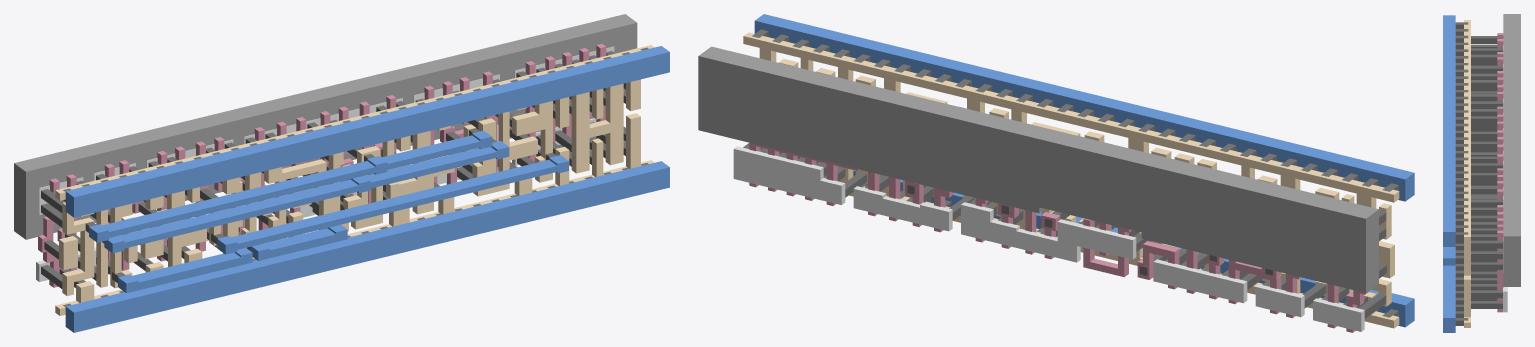
Rendered from sky130_fd_sc_hd__sedfxtp_4.gds.gltf.
3 views of the same model, side by side, from view 1: azimuth 30°, elevation 25°; view 2: azimuth 150°, elevation 25°; view 3: azimuth 270°, elevation 25° (orthographic). The views are drawn at different scales.
Visible parts, largest first — view 1: sky130_fd_sc_hd__sedfxtp_4_met1, sky130_fd_sc_hd__sedfxtp_4_li1, sky130_fd_sc_hd__sedfxtp_4_nwell, sky130_fd_sc_hd__sedfxtp_4_poly, sky130_fd_sc_hd__sedfxtp_4_licon, sky130_fd_sc_hd__sedfxtp_4_diff, sky130_fd_sc_hd__sedfxtp_4_mcon; view 2: sky130_fd_sc_hd__sedfxtp_4_nwell, sky130_fd_sc_hd__sedfxtp_4_diff, sky130_fd_sc_hd__sedfxtp_4_li1, sky130_fd_sc_hd__sedfxtp_4_met1, sky130_fd_sc_hd__sedfxtp_4_poly, sky130_fd_sc_hd__sedfxtp_4_licon, sky130_fd_sc_hd__sedfxtp_4_mcon; view 3: sky130_fd_sc_hd__sedfxtp_4_licon, sky130_fd_sc_hd__sedfxtp_4_nwell, sky130_fd_sc_hd__sedfxtp_4_met1, sky130_fd_sc_hd__sedfxtp_4_mcon, sky130_fd_sc_hd__sedfxtp_4_li1, sky130_fd_sc_hd__sedfxtp_4_poly, sky130_fd_sc_hd__sedfxtp_4_diff.
Boxes of the visible parts, bbox=[...] form: sky130_fd_sc_hd__sedfxtp_4_met1: bbox=[65, 46, 669, 332]; sky130_fd_sc_hd__sedfxtp_4_li1: bbox=[55, 45, 654, 315]; sky130_fd_sc_hd__sedfxtp_4_nwell: bbox=[14, 14, 637, 239]; sky130_fd_sc_hd__sedfxtp_4_poly: bbox=[38, 44, 606, 287]; sky130_fd_sc_hd__sedfxtp_4_licon: bbox=[41, 51, 625, 288]; sky130_fd_sc_hd__sedfxtp_4_diff: bbox=[36, 46, 614, 281]; sky130_fd_sc_hd__sedfxtp_4_mcon: bbox=[63, 47, 648, 306]; sky130_fd_sc_hd__sedfxtp_4_nwell: bbox=[698, 46, 1378, 292]; sky130_fd_sc_hd__sedfxtp_4_diff: bbox=[733, 146, 1364, 331]; sky130_fd_sc_hd__sedfxtp_4_li1: bbox=[743, 32, 1399, 328]; sky130_fd_sc_hd__sedfxtp_4_met1: bbox=[754, 14, 1414, 327]; sky130_fd_sc_hd__sedfxtp_4_poly: bbox=[749, 142, 1369, 332]; sky130_fd_sc_hd__sedfxtp_4_licon: bbox=[743, 82, 1386, 318]; sky130_fd_sc_hd__sedfxtp_4_mcon: bbox=[752, 29, 1398, 317]; sky130_fd_sc_hd__sedfxtp_4_licon: bbox=[1471, 36, 1502, 308]; sky130_fd_sc_hd__sedfxtp_4_nwell: bbox=[1503, 14, 1520, 286]; sky130_fd_sc_hd__sedfxtp_4_met1: bbox=[1443, 15, 1455, 332]; sky130_fd_sc_hd__sedfxtp_4_mcon: bbox=[1455, 22, 1468, 325]; sky130_fd_sc_hd__sedfxtp_4_li1: bbox=[1464, 20, 1470, 327]; sky130_fd_sc_hd__sedfxtp_4_poly: bbox=[1497, 33, 1503, 312]; sky130_fd_sc_hd__sedfxtp_4_diff: bbox=[1503, 45, 1507, 312].
Bounding box in the file's own units: 15.1 × 3.2 × 2.24.
